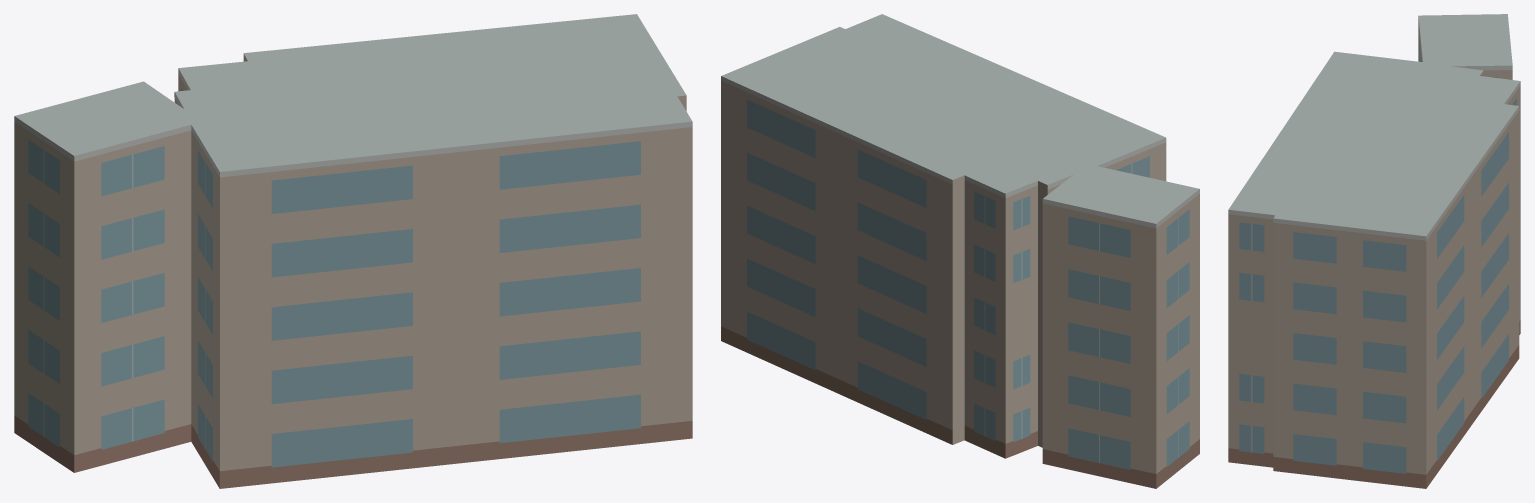
Rendered from survey-upis-32956378.glb.
3 renders of one model, left to right at view 1: azimuth 30°, elevation 25°; view 2: azimuth 150°, elevation 25°; view 3: azimuth 270°, elevation 25°, orthographic. The views are drawn at different scales.
Parts seen in each view (by area): view 1: survey-upis-32956378.tmp; view 2: survey-upis-32956378.tmp; view 3: survey-upis-32956378.tmp.
Part boxes in pixels (x1,y1,x2,y2): survey-upis-32956378.tmp: (14,14,692,488); survey-upis-32956378.tmp: (721,14,1199,488); survey-upis-32956378.tmp: (1228,14,1520,488).
Size of the model in its own units: 26.44 by 14 by 14.69.
